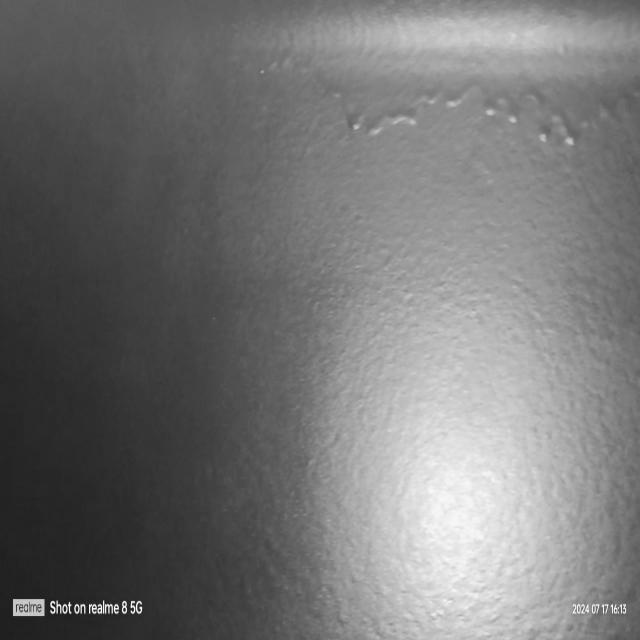paint drips: (251, 48, 640, 150)
